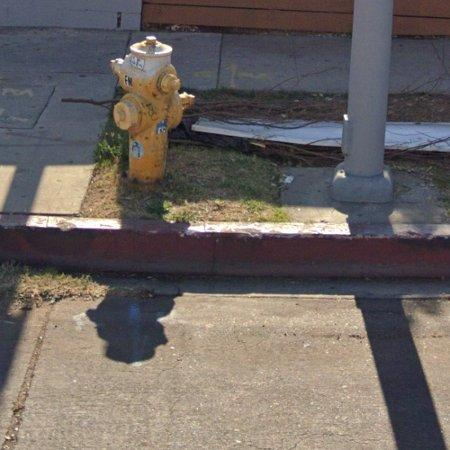a fire hydrant: (110, 36, 195, 183)
